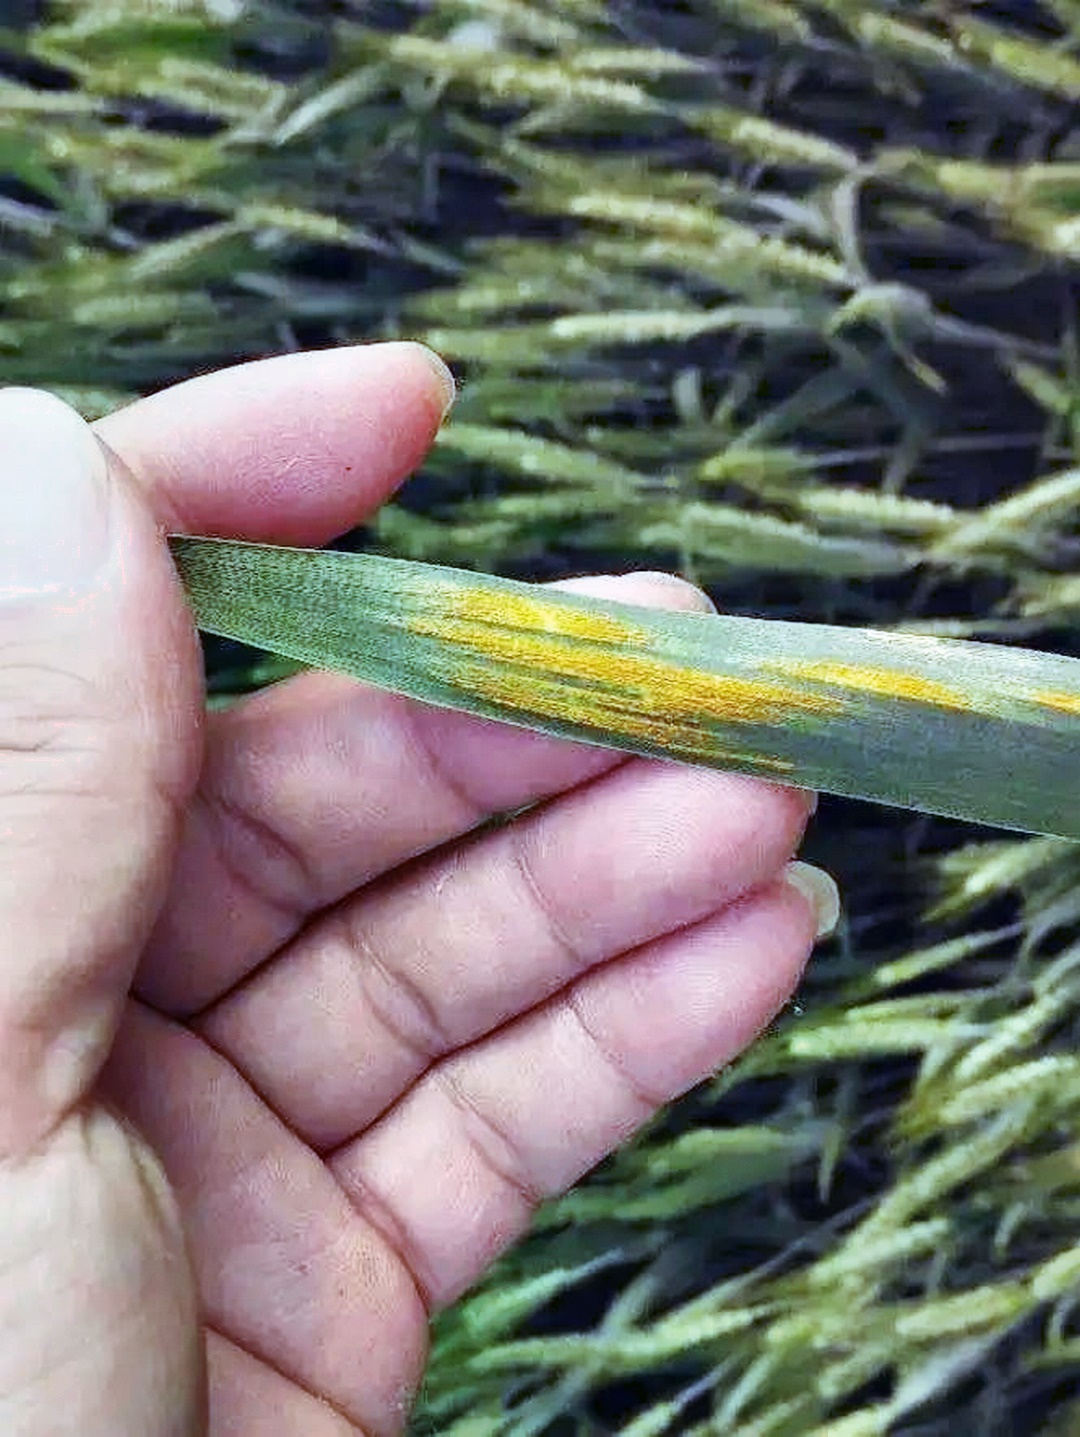Leaf Rust: (389, 574, 847, 784)
